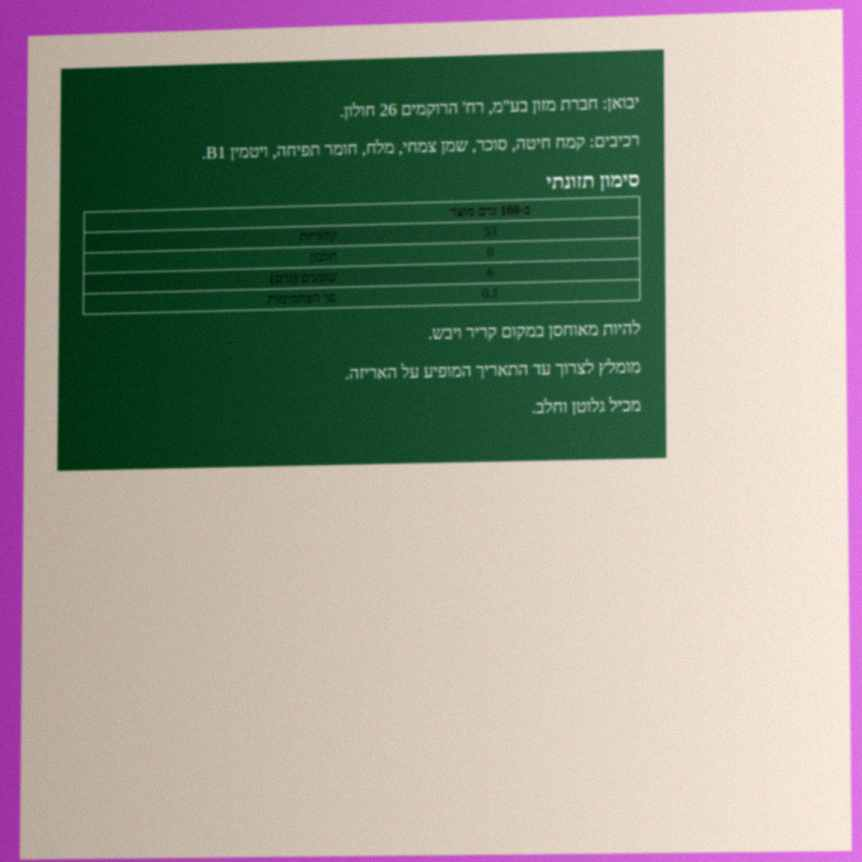carbs: (480, 284, 500, 302)
energy: (482, 222, 499, 240)
fat: (485, 264, 495, 281)
protein: (485, 243, 495, 261)
